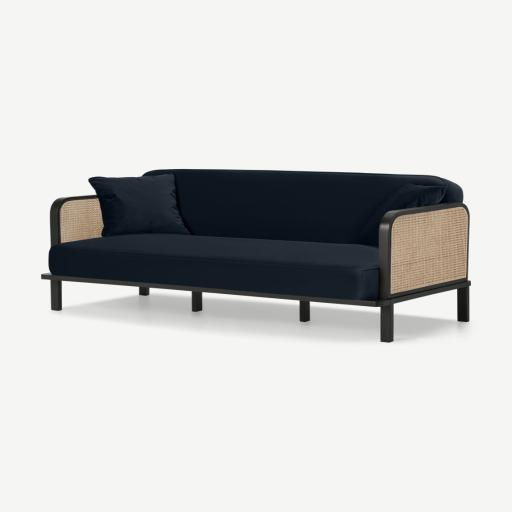back_cushion: (147, 169, 462, 243)
left_arm: (380, 205, 469, 297)
legs: (381, 304, 393, 342), (458, 284, 468, 321), (51, 279, 61, 310), (300, 301, 310, 322), (192, 291, 202, 311), (139, 287, 149, 295)
one-seater: (0, 0, 511, 512)
right_arm: (51, 196, 103, 245)
seat_cushion: (49, 234, 378, 300)
